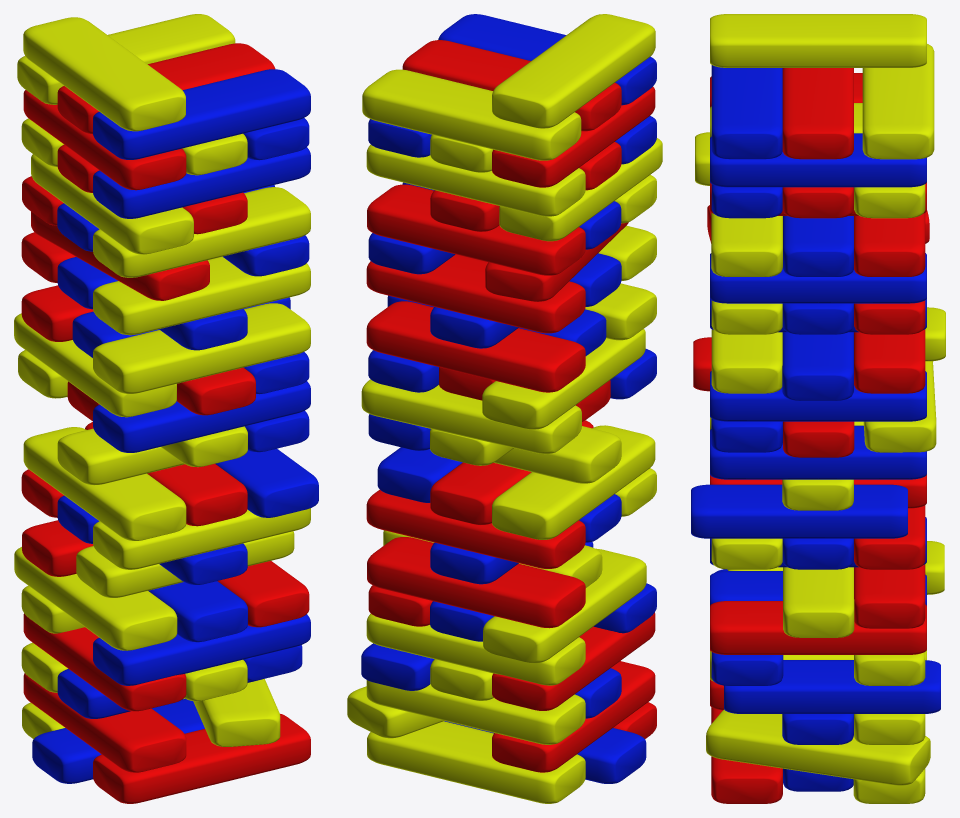
File: Main Tower.fbx
3 renders of one model, left to right at view 1: azimuth 30°, elevation 25°; view 2: azimuth 150°, elevation 25°; view 3: azimuth 270°, elevation 25°, orthographic.
Visible parts, largest first — view 1: Yellow Block.020, Yellow Block.013, Blue Block.018, Red Block, Yellow Block.014, Yellow Block.008, Yellow Block.015, Blue Block.003, Yellow Block.005, Blue Block.009, Blue Block.016, Red Block.001 (+45 smaller); view 2: Yellow Block.020, Yellow Block.019, Red Block.010, Red Block.004, Yellow Block, Red Block.013, Red Block.011, Yellow Block.008, Yellow Block.011, Red Block.005, Yellow Block.002, Yellow Block.017 (+45 smaller); view 3: Yellow Block.020, Blue Block.007, Yellow Block.001, Blue Block.002, Red Block.003, Yellow Block.019, Blue Block, Blue Block.018, Red Block.016, Blue Block.008, Blue Block.014, Blue Block.010 (+34 smaller).
Part boxes in pixels (bbox=[...]): Yellow Block.020: bbox=[23, 17, 185, 131]; Yellow Block.013: bbox=[93, 303, 310, 393]; Blue Block.018: bbox=[93, 69, 310, 159]; Red Block: bbox=[93, 714, 310, 803]; Yellow Block.014: bbox=[93, 256, 310, 335]; Yellow Block.008: bbox=[23, 427, 186, 540]; Yellow Block.015: bbox=[93, 187, 310, 277]; Blue Block.003: bbox=[93, 614, 310, 685]; Yellow Block.005: bbox=[14, 547, 177, 650]; Blue Block.009: bbox=[93, 381, 310, 452]; Blue Block.016: bbox=[93, 147, 310, 218]; Red Block.001: bbox=[23, 673, 186, 772]; Yellow Block.020: bbox=[492, 14, 655, 128]; Yellow Block.019: bbox=[362, 69, 581, 160]; Red Block.010: bbox=[366, 301, 585, 392]; Red Block.004: bbox=[367, 537, 585, 628]; Yellow Block: bbox=[367, 721, 585, 803]; Red Block.013: bbox=[367, 184, 585, 275]; Red Block.011: bbox=[366, 254, 585, 333]; Yellow Block.008: bbox=[492, 425, 655, 539]; Yellow Block.011: bbox=[361, 379, 581, 454]; Red Block.005: bbox=[366, 489, 585, 568]; Yellow Block.002: bbox=[366, 680, 585, 744]; Yellow Block.017: bbox=[366, 144, 585, 216]; Yellow Block.020: bbox=[710, 14, 926, 67]; Blue Block.007: bbox=[691, 484, 907, 538]; Yellow Block.001: bbox=[706, 709, 930, 785]; Blue Block.002: bbox=[724, 660, 940, 713]; Red Block.003: bbox=[710, 601, 926, 654]; Yellow Block.019: bbox=[862, 44, 934, 159]; Blue Block: bbox=[710, 133, 926, 187]; Blue Block.018: bbox=[711, 65, 782, 159]; Red Block.016: bbox=[782, 68, 853, 159]; Blue Block.008: bbox=[710, 425, 926, 479]; Blue Block.014: bbox=[710, 253, 926, 303]; Blue Block.010: bbox=[710, 371, 926, 421].
Size of the model in its own units: 254 by 716 by 235.
